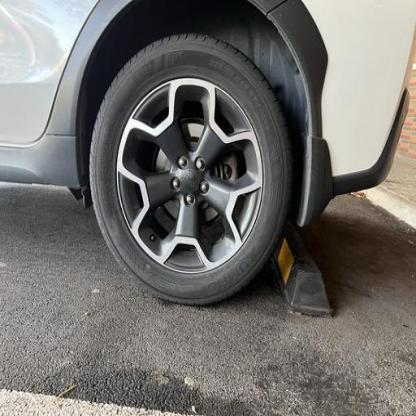Tire: (87, 32, 294, 306)
